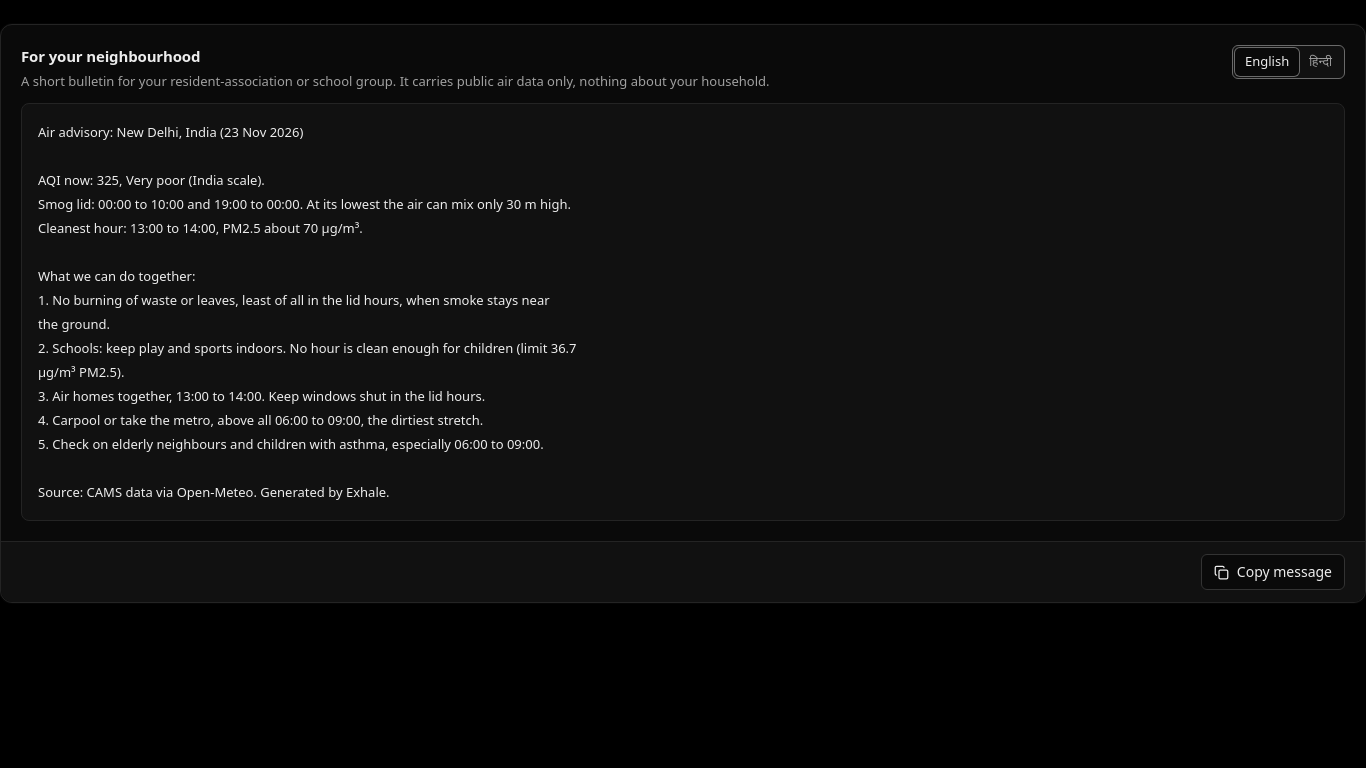
Test: CommunityAdvisoryCard › switches the text and its lang attribute with the language toggle
Later steps or results of the test are not shown.
Expected: the radio button labelled "English" is checked, [1235,48,1299,76]
Click the radio button labelled "हिन्दी" at (1321, 62), box [1299,48,1342,76]
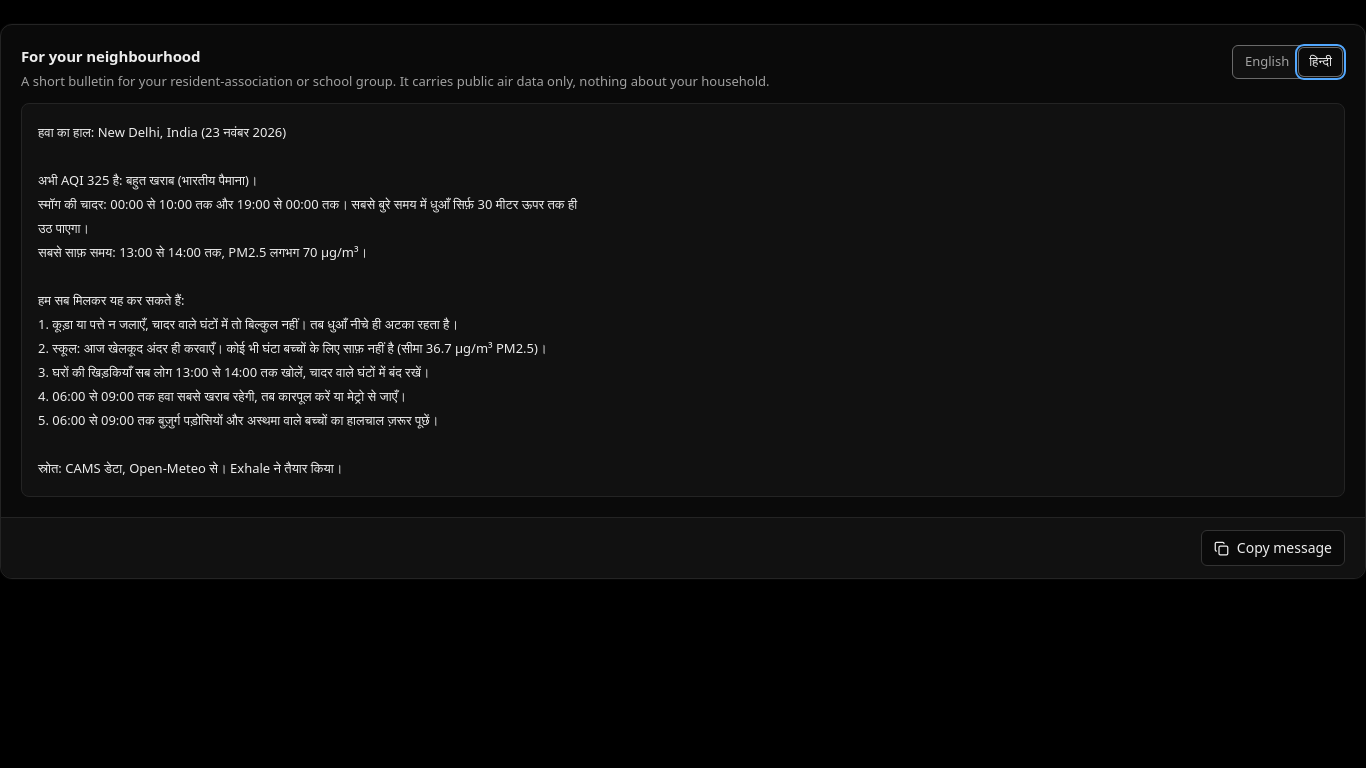
Result: the radio button labelled "हिन्दी" is checked at [1299,48,1342,76]
Result: the radio button labelled "English" is not checked at [1235,48,1299,76]
